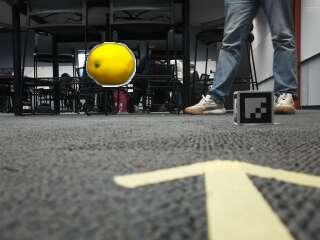lemon: (88, 44, 134, 86)
